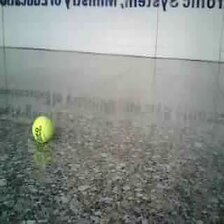tennis: (31, 116, 54, 144)
